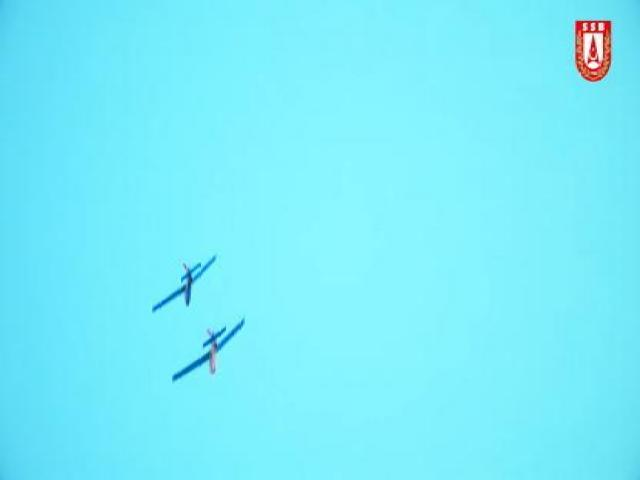uav: (170, 322, 252, 381), (148, 250, 217, 313)
